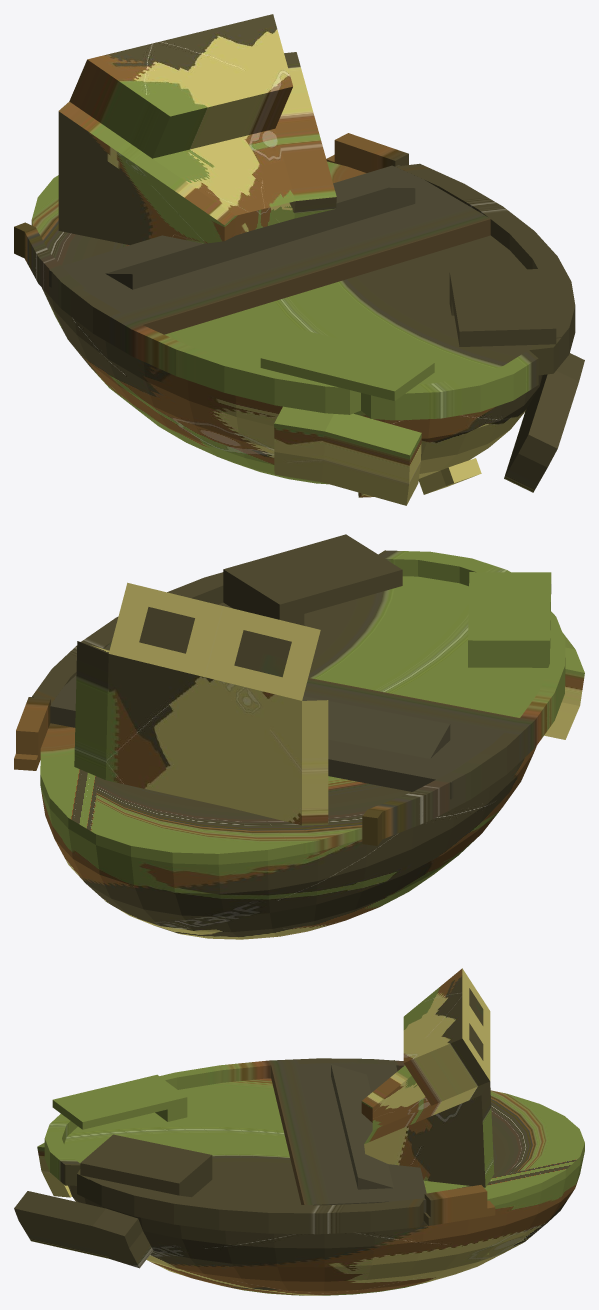
The model's file is tank.obj.
3 views of the same model, one above another, from view 1: azimuth 30°, elevation 25°; view 2: azimuth 150°, elevation 25°; view 3: azimuth 270°, elevation 25° (orthographic). The views are drawn at different scales.
Visible parts, largest first — view 1: Sphere, Sphere.001; view 2: Sphere, Sphere.001; view 3: Sphere, Sphere.001.
Boxes of the visible parts, box(x1,y1,x2,y2) form: Sphere: box(14, 133, 584, 505); Sphere.001: box(58, 14, 336, 244); Sphere: box(14, 534, 584, 939); Sphere.001: box(74, 582, 328, 825); Sphere: box(14, 1058, 584, 1295); Sphere.001: box(361, 968, 494, 1254).
Size of the model in its own units: 13.69 by 10.92 by 21.29.
2 materials, 2 textured.
